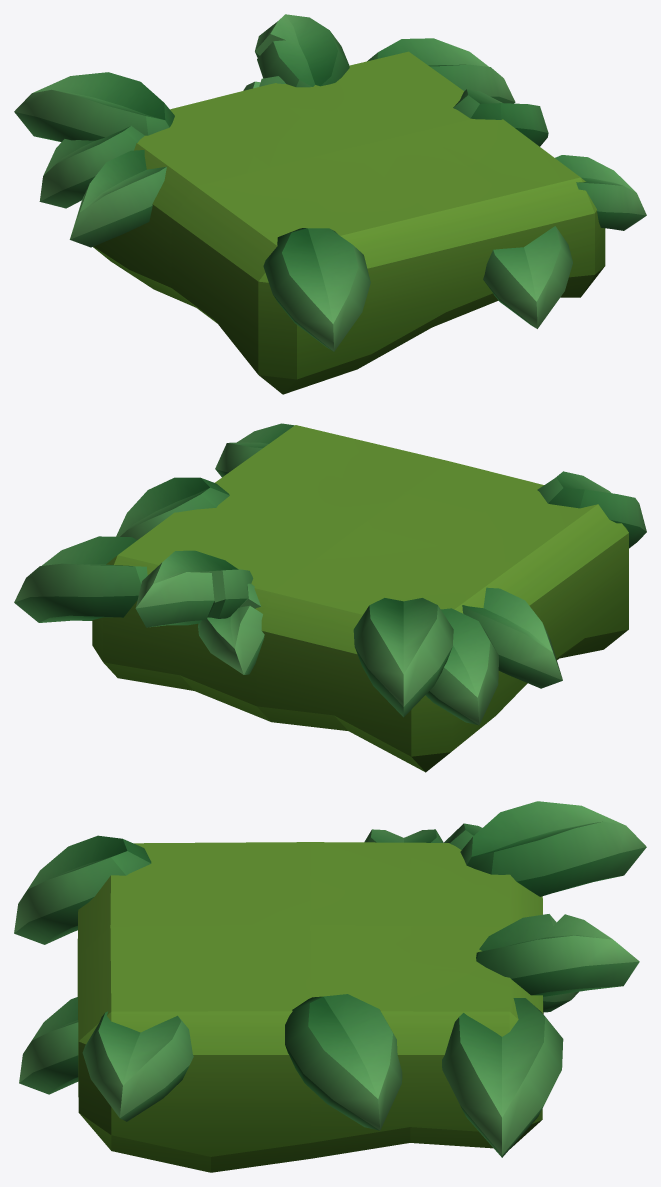
Rendered from m_deco_floorFoliage_plate.FBX.
The picture shows the model from 3 angles, top to bottom: view 1: azimuth 30°, elevation 25°; view 2: azimuth 150°, elevation 25°; view 3: azimuth 270°, elevation 25°; orthographic projection. The views are drawn at different scales.
Visible parts, largest first — view 1: m_deco_floorFoliage_plate; view 2: m_deco_floorFoliage_plate; view 3: m_deco_floorFoliage_plate.
Boxes of the visible parts, x1,y1,x2,y2 form: m_deco_floorFoliage_plate: (14, 14, 646, 394); m_deco_floorFoliage_plate: (14, 423, 646, 772); m_deco_floorFoliage_plate: (14, 801, 646, 1172).
Bounding box in the file's own units: 3.06 × 1.05 × 2.97.
